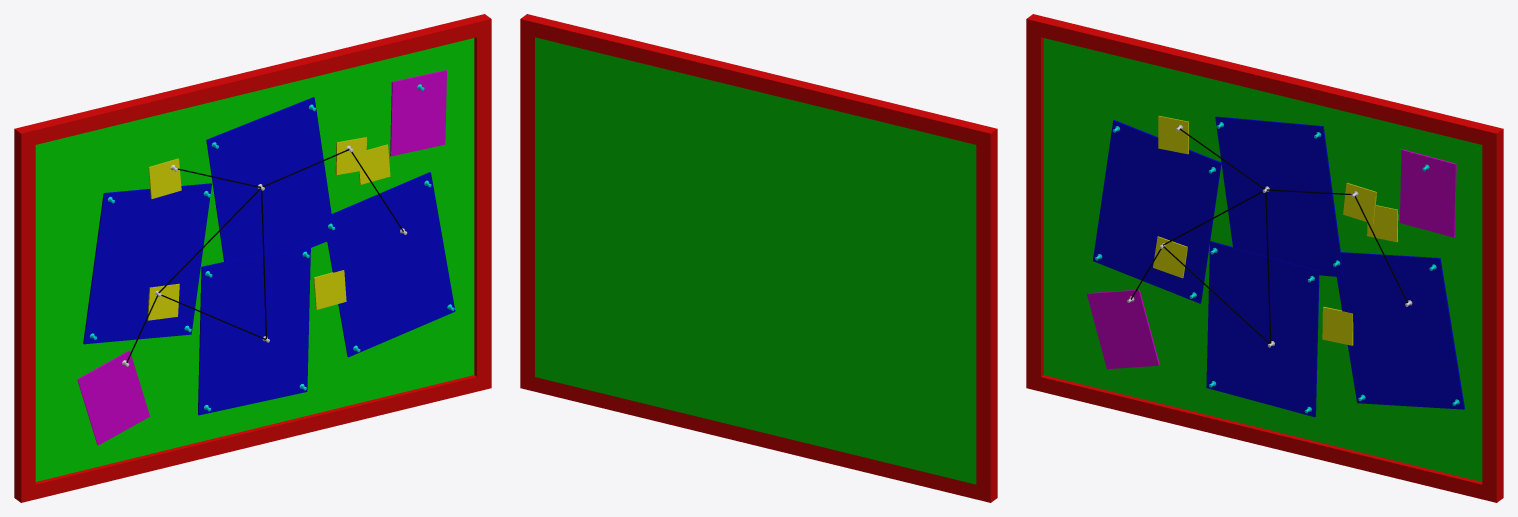
The model's file is 6board.fbx.
The picture shows the model from 3 angles, left to right: view 1: azimuth 30°, elevation 25°; view 2: azimuth 150°, elevation 25°; view 3: azimuth 330°, elevation 25°; orthographic projection.
Visible parts, largest first — view 1: Cylinder.001; view 2: Cylinder.001; view 3: Cylinder.001.
Boxes of the visible parts, bbox=[...] form: Cylinder.001: bbox=[14, 14, 491, 502]; Cylinder.001: bbox=[520, 14, 997, 502]; Cylinder.001: bbox=[1026, 14, 1503, 502].
Bounding box in the file's own units: 200 × 150 × 6.74.
